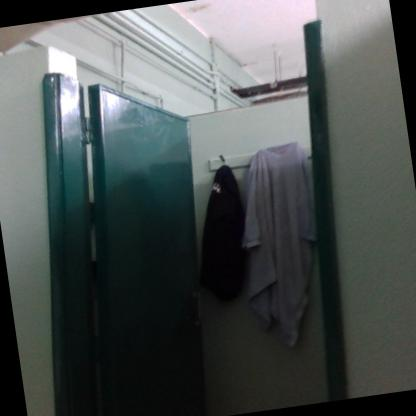open: (44, 6, 375, 415)
